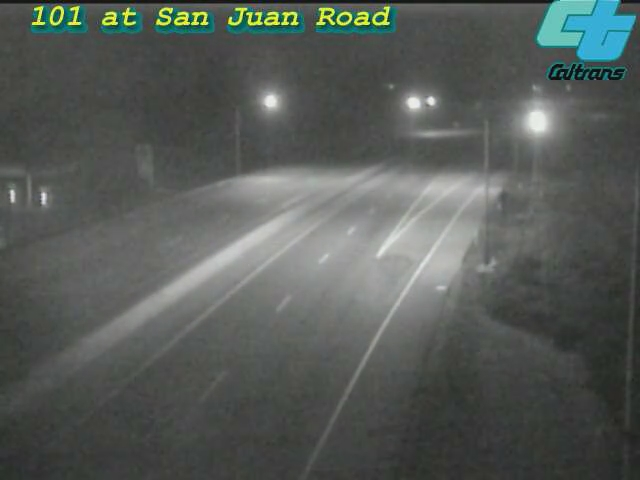vehicle: (515, 97, 565, 147)
